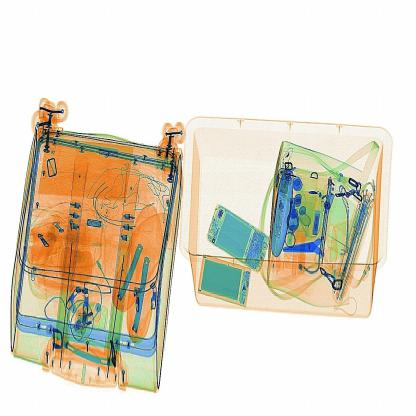gun: (274, 225, 345, 268)
